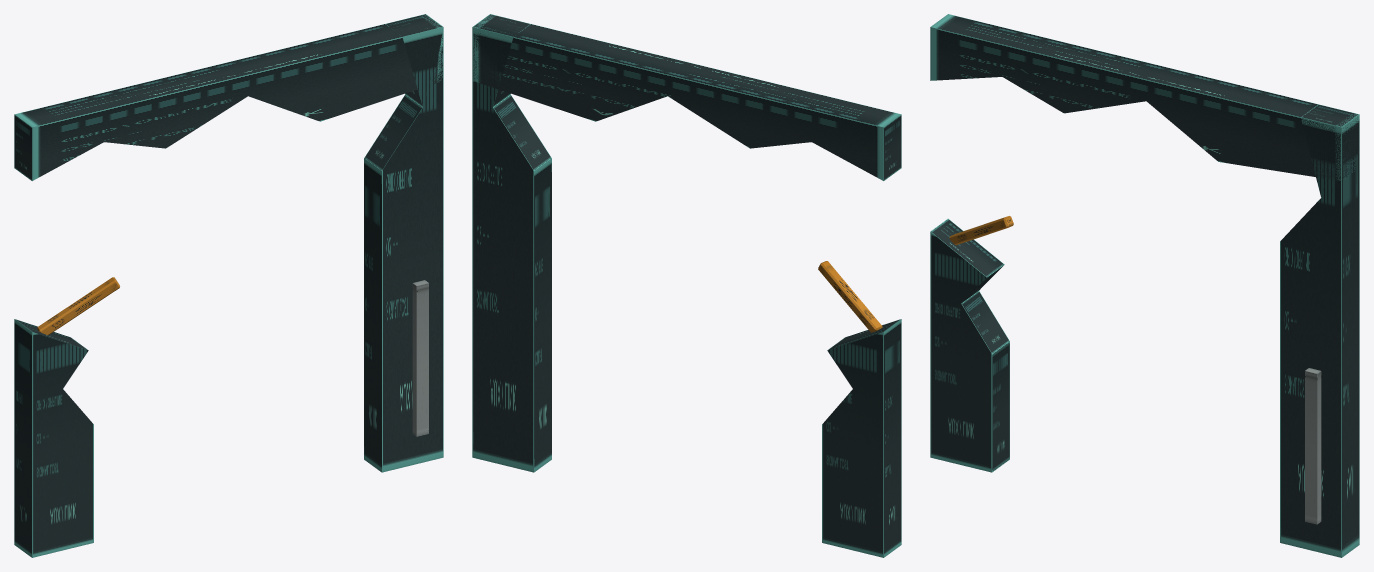
Rendered from wall_breach_4m_LOD2.obj.
The picture shows the model from 3 angles, left to right: view 1: azimuth 30°, elevation 25°; view 2: azimuth 150°, elevation 25°; view 3: azimuth 330°, elevation 25°; orthographic projection.
Visible parts, largest first — view 1: L02_wall_breach_4m_LOD2; view 2: L02_wall_breach_4m_LOD2; view 3: L02_wall_breach_4m_LOD2.
Part boxes in pixels (x1,y1,x2,y2): L02_wall_breach_4m_LOD2: (14,14,443,557); L02_wall_breach_4m_LOD2: (472,14,901,557); L02_wall_breach_4m_LOD2: (930,14,1359,557).
Size of the model in its own units: 4 by 4 by 0.3946.
1 material, 1 textured.
